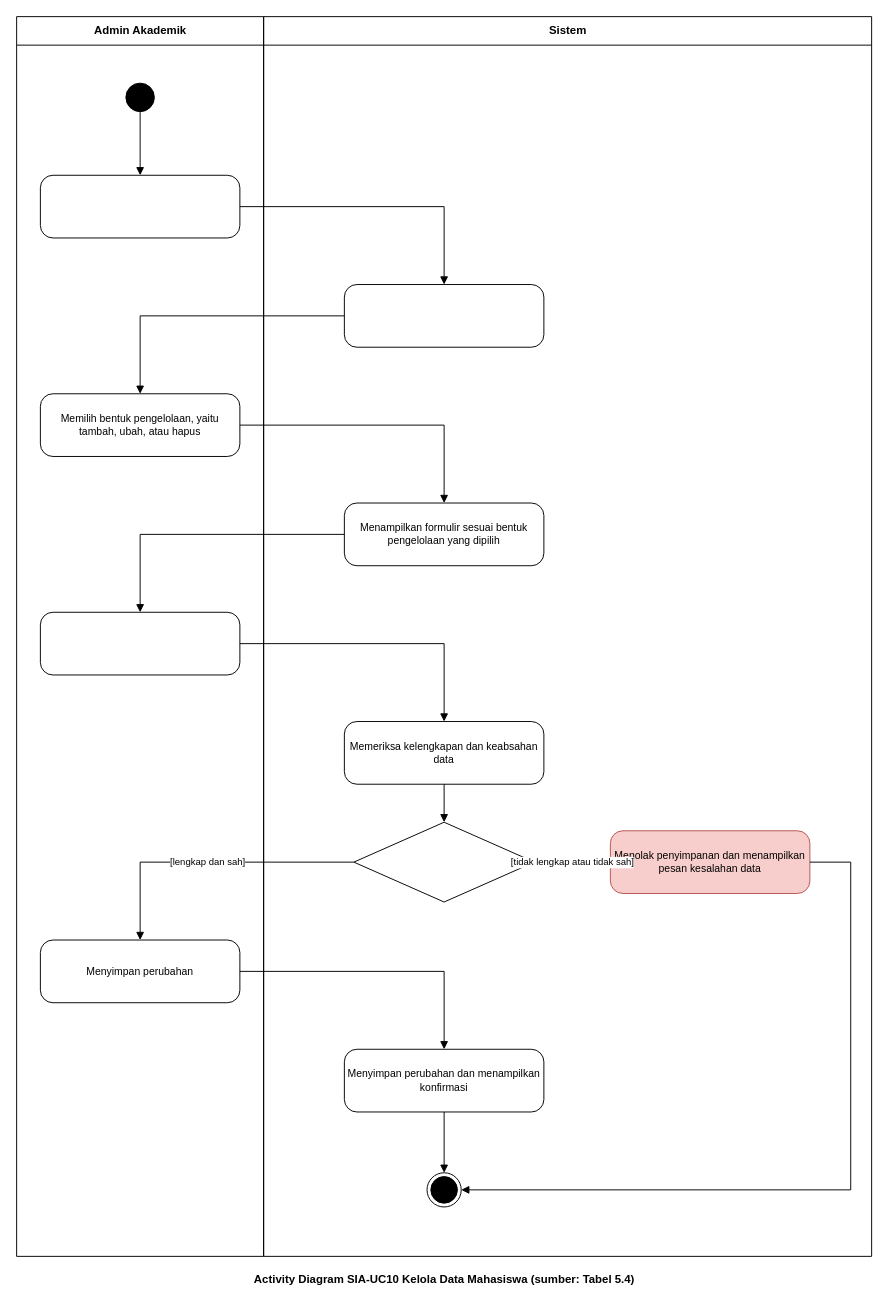
Image size: 888x1311. Some labels were removed from this diagram. Each missing label, with the centre of its shape:
"Data lengkap dan sah?" goes at pixel 443 861.
"Membuka fungsi Kelola Data Mahasiswa" goes at pixel 139 206.
"Menampilkan daftar data mahasiswa" goes at pixel 443 315.
"Mengisi atau mengonfirmasi data" goes at pixel 139 643.
